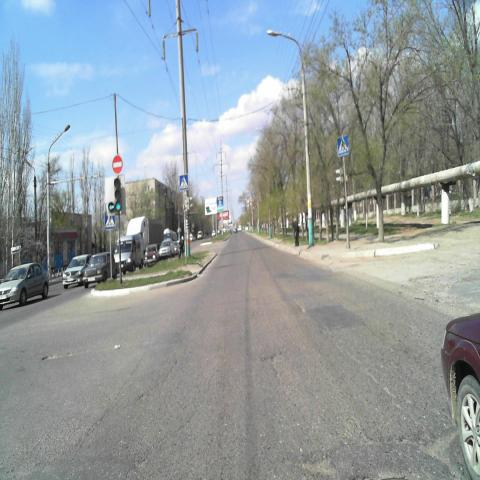3_1: (113, 154, 123, 175)
